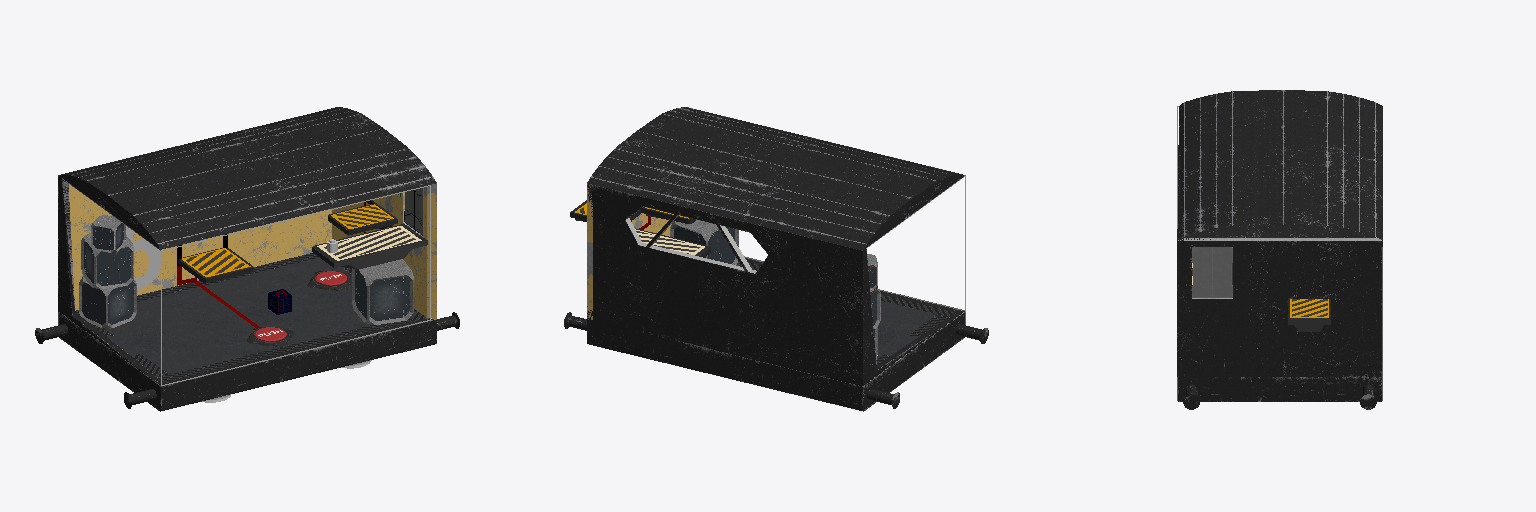
3 views of the same model, side by side, from view 1: azimuth 30°, elevation 25°; view 2: azimuth 150°, elevation 25°; view 3: azimuth 270°, elevation 25° (orthographic).
Visible parts, largest first — view 1: F_floor_1.002, R_roof_1.002, W_back_wall_1.002, W_left_wall_1.002, Y_decoBox1_4.004, S_door_platform_1.001, Y_decoBox1_1.002, Y_decoBox1_2.002, W_right_wall_down_1.002, M_06_moving_platform_6, M_07_question_platform_8, Y_decoBox1_3.003 (+3 smaller); view 2: W_back_wall_1.002, R_roof_1.002, F_floor_1.002, W_left_wall_1.002, Y_decoBox1_4.004, W_right_wall_down_1.002, S_corner_platform_1.002; view 3: R_roof_1.002, W_right_wall_down_1.002, W_right_wall_left_1.002, F_floor_1.002, W_right_wall_up_1.002, M_07_question_platform_7, D_right_door_5, D_left_door_5, W_right_wall_right_1.002.
Boxes of the visible parts, x1,y1,x2,y2 form: F_floor_1.002: [35, 253, 459, 411]; R_roof_1.002: [64, 107, 436, 249]; W_back_wall_1.002: [69, 184, 331, 310]; W_left_wall_1.002: [58, 174, 163, 385]; Y_decoBox1_4.004: [352, 259, 413, 324]; S_door_platform_1.001: [312, 224, 427, 269]; Y_decoBox1_1.002: [79, 277, 136, 328]; Y_decoBox1_2.002: [81, 233, 133, 289]; W_right_wall_down_1.002: [332, 201, 436, 318]; M_06_moving_platform_6: [178, 248, 253, 283]; M_07_question_platform_8: [328, 203, 397, 234]; Y_decoBox1_3.003: [91, 215, 125, 252]; W_back_wall_1.002: [587, 183, 862, 385]; R_roof_1.002: [587, 107, 959, 249]; F_floor_1.002: [564, 258, 988, 411]; W_left_wall_1.002: [863, 174, 963, 385]; Y_decoBox1_4.004: [670, 220, 738, 264]; W_right_wall_down_1.002: [587, 213, 671, 319]; S_corner_platform_1.002: [635, 228, 710, 257]; R_roof_1.002: [1177, 90, 1382, 240]; W_right_wall_down_1.002: [1177, 298, 1382, 376]; W_right_wall_left_1.002: [1233, 247, 1382, 298]; F_floor_1.002: [1177, 263, 1382, 409]; W_right_wall_up_1.002: [1177, 238, 1382, 246]; M_07_question_platform_7: [1288, 299, 1330, 331]; D_right_door_5: [1192, 247, 1212, 297]; D_left_door_5: [1213, 247, 1232, 297]; W_right_wall_right_1.002: [1177, 247, 1191, 298].
Size of the model in its own units: 13.94 by 7.33 by 7.19.
18 materials, 14 textured.